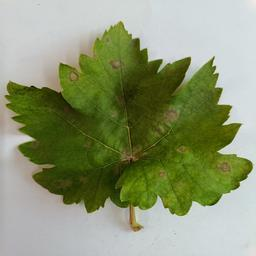Powdery-Mildew: (156, 104, 182, 138), (120, 139, 145, 166), (61, 68, 77, 83), (108, 57, 123, 73), (176, 141, 191, 156), (217, 159, 232, 174), (152, 167, 167, 182)
